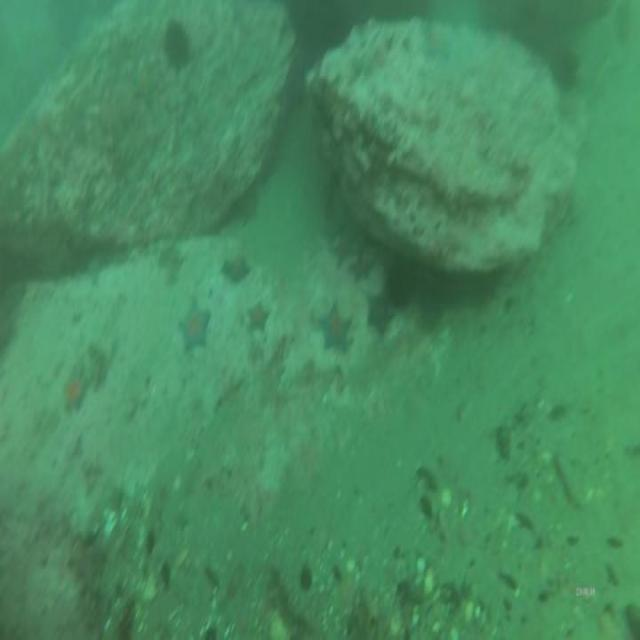echinus: (161, 16, 190, 69)
starfish: (175, 292, 212, 356), (314, 298, 353, 358), (364, 292, 396, 343), (62, 363, 92, 414), (244, 297, 272, 340), (327, 231, 357, 270), (218, 247, 252, 278), (348, 251, 372, 283)
